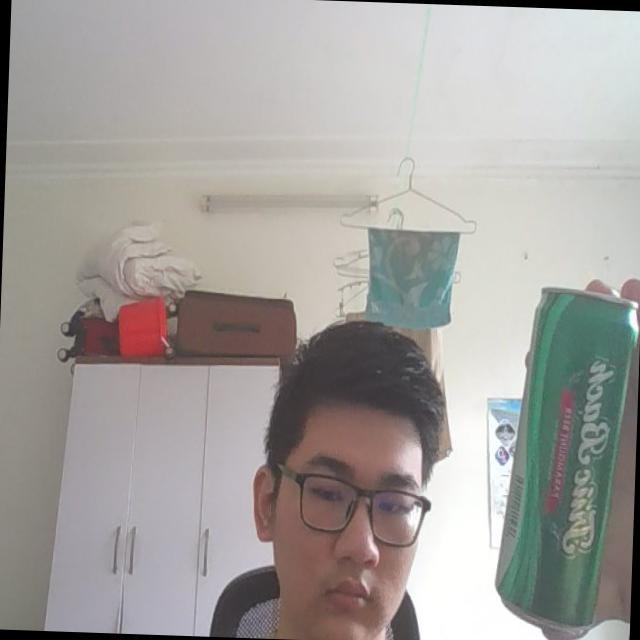Bia-Truc-Bach: (492, 280, 639, 634)
